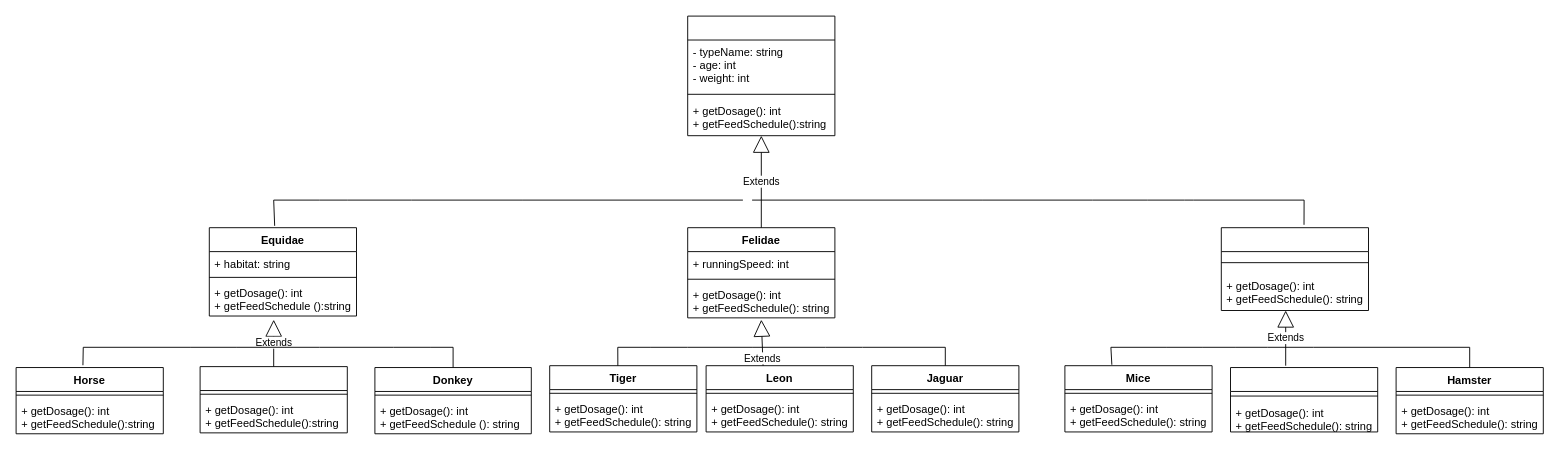
This 1559x453 diagram has some shape labels left out. The box of each missing label's shape, as (x1, y1, x2, y2) in pixels:
Animals: (687, 15, 835, 136)
Beaver: (1230, 367, 1378, 432)
Rodentia: (1220, 227, 1368, 310)
Zebra: (199, 366, 347, 433)
